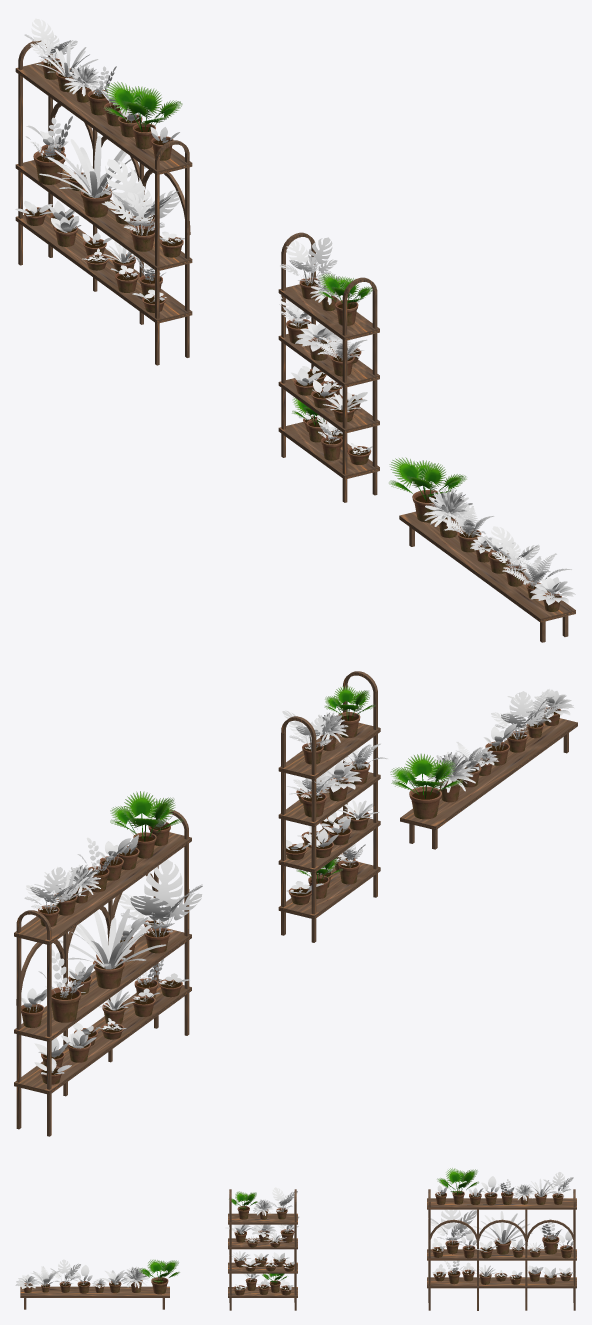
The model's file is Półki.fbx.
The picture shows the model from 3 angles, top to bottom: view 1: azimuth 30°, elevation 25°; view 2: azimuth 150°, elevation 25°; view 3: azimuth 270°, elevation 25°; orthographic projection. The views are drawn at different scales.
Parts seen in each view (by area): view 1: Cube.011, Cube.010, Cube.002, Cube.022, Cube.016, Cube.017, Cube.001, Cube.013, Cube.003, Cube.015, Cube.014, Cube.012 (+2 smaller); view 2: Cube.011, Cube.010, Cube.022, Cube.002, Cube.003, Cube.012, Cube.001, Cube.013, Cube.017, Cube.015, Cube.016, Cube.014 (+6 smaller); view 3: Cube.010, Cube.002, Cube.011, Cube.022, Cube.001, Cube.015, Cube.013, Cube.014, Cube.012, Cube.016, Cube.003, Cube.017 (+7 smaller).
Boxes of the visible parts, left/top/right/bottom form: Cube.011: left=399, top=511, right=575, bottom=622; Cube.010: left=15, top=62, right=192, bottom=174; Cube.002: left=15, top=209, right=192, bottom=323; Cube.022: left=15, top=160, right=192, bottom=271; Cube.016: left=342, top=277, right=377, bottom=502; Cube.017: left=155, top=140, right=189, bottom=365; Cube.001: left=278, top=284, right=379, bottom=340; Cube.013: left=278, top=422, right=379, bottom=479; Cube.003: left=18, top=40, right=52, bottom=265; Cube.015: left=278, top=333, right=379, bottom=387; Cube.014: left=278, top=378, right=379, bottom=433; Cube.012: left=281, top=232, right=315, bottom=457; Cube.011: left=400, top=717, right=577, bottom=829; Cube.010: left=14, top=832, right=191, bottom=945; Cube.022: left=14, top=928, right=191, bottom=1041; Cube.002: left=14, top=979, right=191, bottom=1094; Cube.003: left=16, top=910, right=51, bottom=1136; Cube.012: left=281, top=716, right=316, bottom=942; Cube.001: left=278, top=722, right=380, bottom=779; Cube.013: left=278, top=862, right=380, bottom=919; Cube.017: left=154, top=809, right=189, bottom=1035; Cube.015: left=278, top=772, right=380, bottom=826; Cube.016: left=343, top=671, right=377, bottom=897; Cube.014: left=278, top=814, right=380, bottom=873; Cube.010: left=427, top=1198, right=576, bottom=1209; Cube.002: left=427, top=1277, right=576, bottom=1288; Cube.011: left=20, top=1286, right=169, bottom=1297; Cube.022: left=427, top=1249, right=576, bottom=1260; Cube.001: left=228, top=1213, right=297, bottom=1224; Cube.015: left=228, top=1238, right=297, bottom=1249; Cube.013: left=228, top=1287, right=297, bottom=1297; Cube.014: left=228, top=1262, right=297, bottom=1273; Cube.012: left=294, top=1189, right=296, bottom=1310; Cube.016: left=229, top=1189, right=231, bottom=1310; Cube.003: left=573, top=1189, right=575, bottom=1310; Cube.017: left=428, top=1189, right=430, bottom=1310.
Bounding box in the file's own units: 1.42 × 3.47 × 13.3.
34 materials, 13 textured.
